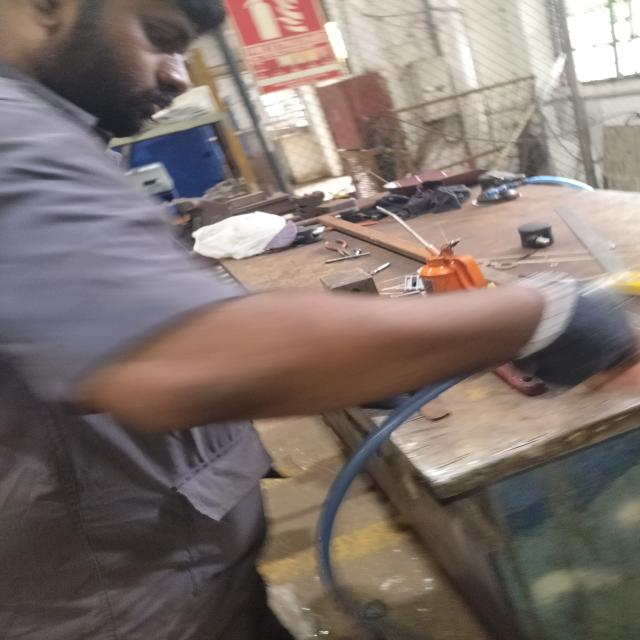Gloves-Detection: (524, 272, 617, 392)
